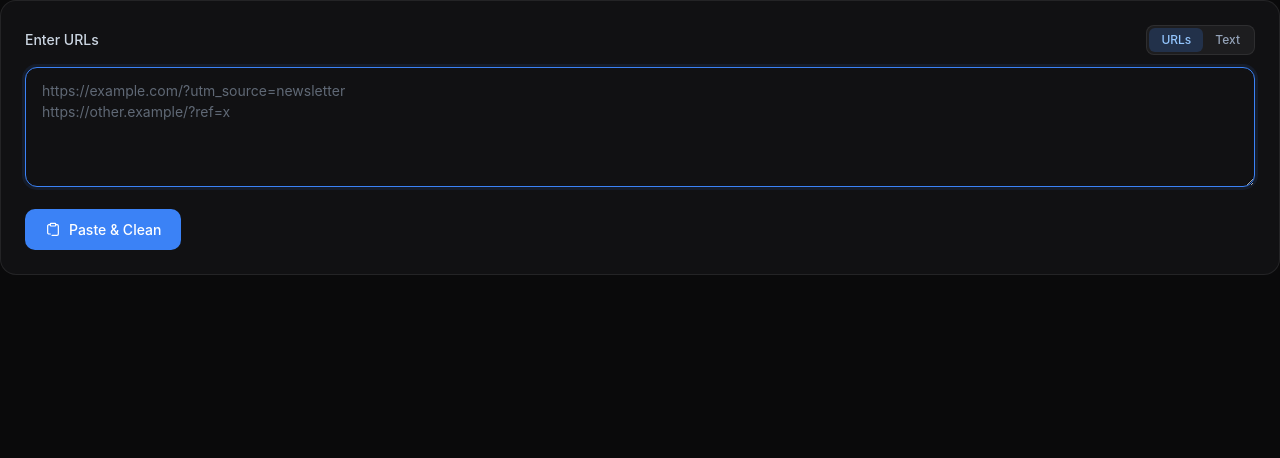
Test: UrlProcessor › pastes and cleans from clipboard when clicking Paste & Clean
This screenshot has width=1280, height=458.
Click the button "Paste & Clean": [103, 230] box [25, 209, 181, 250]
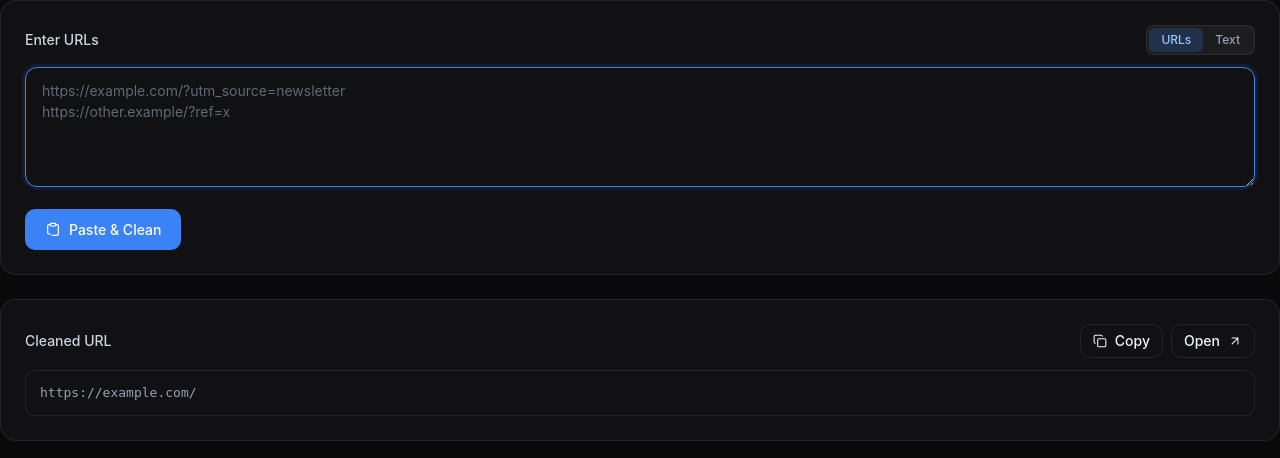
Expected: the text "https://example.com/" is shown, [25, 370, 1255, 416]
